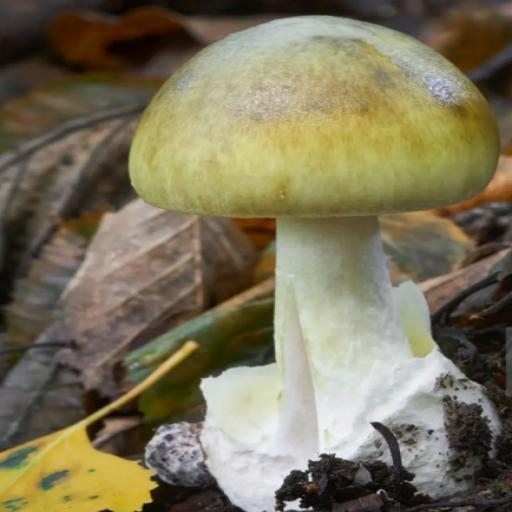Death Cap: (128, 5, 511, 512)
